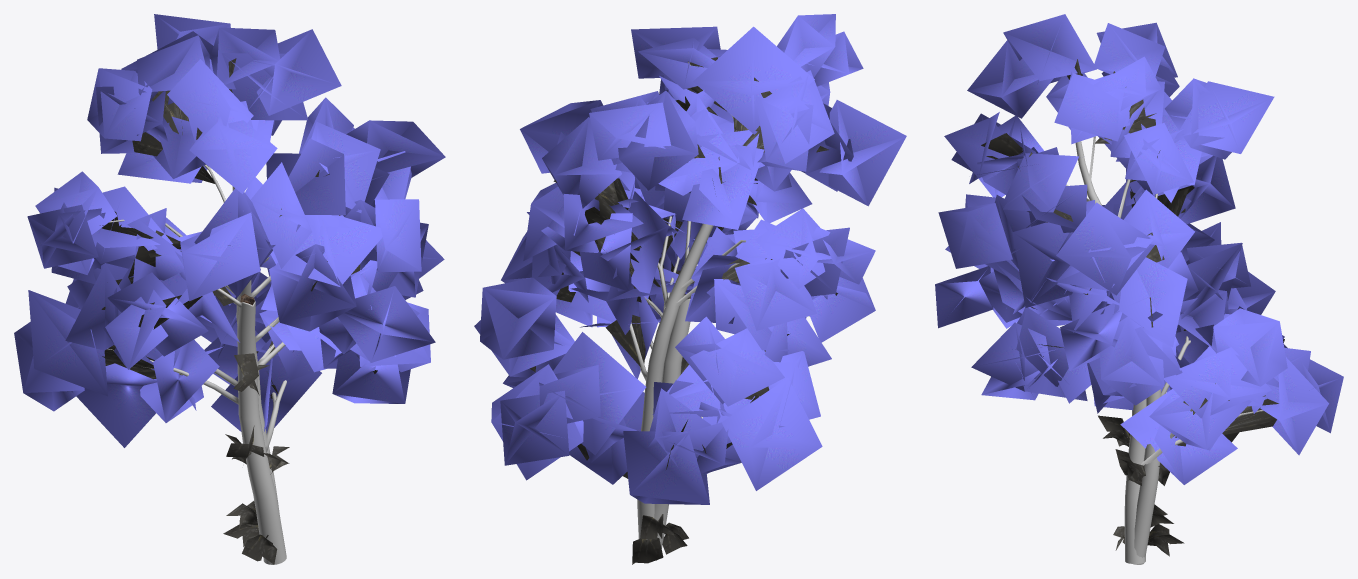
File: Birch_3.fbx
The picture shows the model from 3 angles, left to right: view 1: azimuth 30°, elevation 25°; view 2: azimuth 150°, elevation 25°; view 3: azimuth 270°, elevation 25°; orthographic projection. The views are drawn at different scales.
Parts seen in each view (by area): view 1: Birch_3; view 2: Birch_3; view 3: Birch_3.
Part boxes in pixels (x1,y1,x2,y2): Birch_3: [14, 14, 445, 564]; Birch_3: [474, 14, 906, 564]; Birch_3: [935, 14, 1343, 564].
Size of the model in its own units: 18.37 by 25.56 by 18.96.
